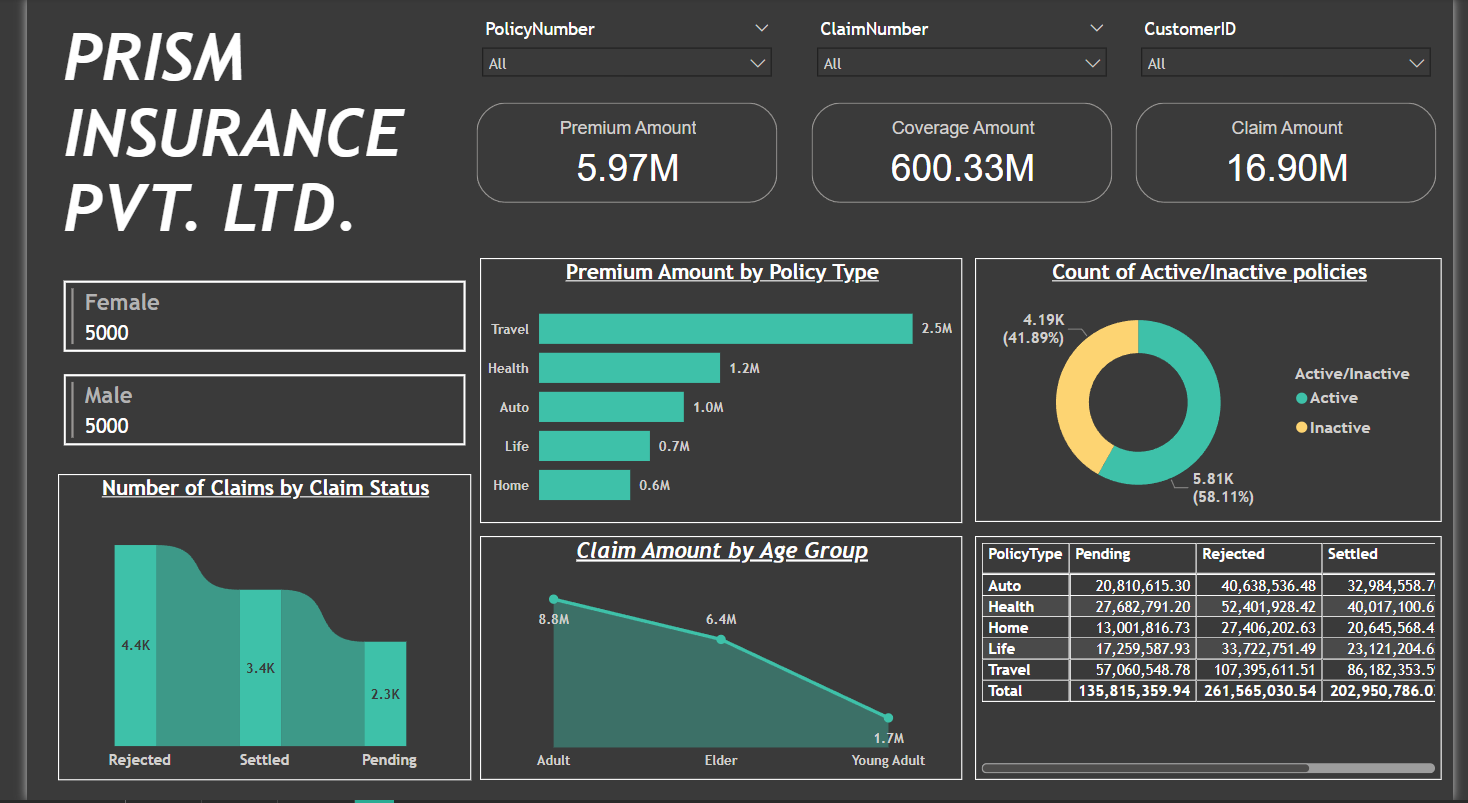

This screenshot's page, from the dashboard's own definition file:
{"tool":"powerbi","page":{"name":"Page 1","canvas":[1280,720],"ordinal":0},"visuals":[{"type":"slicer","fields":{"Values":["InsuranceData.PolicyNumber"]},"box":[398.8,13.6,280.1,74.9],"z":0},{"type":"slicer","fields":{"Values":["InsuranceData.ClaimNumber"]},"box":[699.3,13.6,280.1,74.9],"z":1000},{"type":"slicer","fields":{"Values":["InsuranceData.CustomerID"]},"box":[990.2,13.6,280.1,74.9],"z":2000},{"type":"textbox","box":[28.2,13.6,370.6,219.8],"z":3000},{"type":"cardVisual","fields":{"Data":["Sum(InsuranceData.PremiumAmount)"]},"box":[398.8,88.5,280.1,100.2],"z":4000},{"type":"cardVisual","fields":{"Data":["Sum(InsuranceData.CoverageAmount)"]},"box":[699.3,88.5,280.1,100.2],"z":5000},{"type":"cardVisual","fields":{"Data":["Sum(InsuranceData.ClaimAmount)"]},"box":[990.2,88.5,280.1,100.2],"z":6000},{"type":"multiRowCard","fields":{"Values":["InsuranceData.Gender","CountNonNull(InsuranceData.Gender)"]},"box":[28.2,249,370.6,178],"z":7000},{"type":"ribbonChart","title":"Number of Claims by Claim Status","fields":{"Category":["InsuranceData.ClaimStatus"],"Y":["CountNonNull(InsuranceData.ClaimStatus)"]},"box":[28.2,427,370.6,275.3],"z":8000},{"type":"barChart","title":"Premium Amount by Policy Type","fields":{"Category":["InsuranceData.PolicyType"],"Y":["Sum(InsuranceData.PremiumAmount)"]},"box":[406.6,233.4,432.8,238.3],"z":9000},{"type":"lineChart","title":"Claim Amount by Age Group","fields":{"Category":["InsuranceData.Age Group"],"Y":["Sum(InsuranceData.ClaimAmount)"]},"box":[406.6,483.4,432.8,218.8],"z":10000},{"type":"donutChart","title":"Count of Active/Inactive policies","fields":{"Category":["InsuranceData.Active/Inactive"],"Y":["CountNonNull(InsuranceData.Active/Inactive)"]},"box":[851.1,233.4,419.2,237.3],"z":11000},{"type":"pivotTable","fields":{"Values":["Sum(InsuranceData.CoverageAmount)"],"Columns":["InsuranceData.ClaimStatus"],"Rows":["InsuranceData.PolicyType"]},"box":[851,483,419,219],"z":12000}]}

Visuals, with their boxes in screenshot pixels (x1, y1, x2, y2), scaled from the page's 1280x720 canvas onto the 1468x803 screenshot:
slicer - InsuranceData.PolicyNumber: BBox(457, 15, 779, 99)
slicer - InsuranceData.ClaimNumber: BBox(802, 15, 1123, 99)
slicer - InsuranceData.CustomerID: BBox(1136, 15, 1457, 99)
textbox: BBox(32, 15, 457, 260)
cardVisual - Sum(InsuranceData.PremiumAmount): BBox(457, 99, 779, 210)
cardVisual - Sum(InsuranceData.CoverageAmount): BBox(802, 99, 1123, 210)
cardVisual - Sum(InsuranceData.ClaimAmount): BBox(1136, 99, 1457, 210)
multiRowCard - InsuranceData.Gender x CountNonNull(InsuranceData.Gender): BBox(32, 278, 457, 476)
"Number of Claims by Claim Status" ribbonChart: BBox(32, 476, 457, 783)
"Premium Amount by Policy Type" barChart: BBox(466, 260, 963, 526)
"Claim Amount by Age Group" lineChart: BBox(466, 539, 963, 783)
"Count of Active/Inactive policies" donutChart: BBox(976, 260, 1457, 525)
pivotTable - Sum(InsuranceData.CoverageAmount) x InsuranceData.ClaimStatus: BBox(976, 539, 1457, 783)
